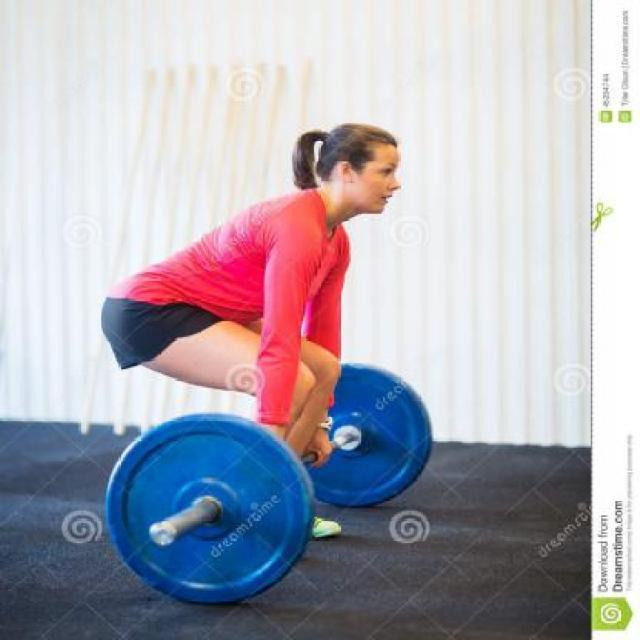Barbell: (144, 520, 178, 548)
